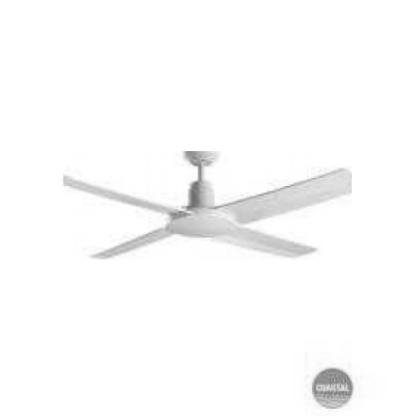ceiling-fan: (64, 151, 352, 262)
